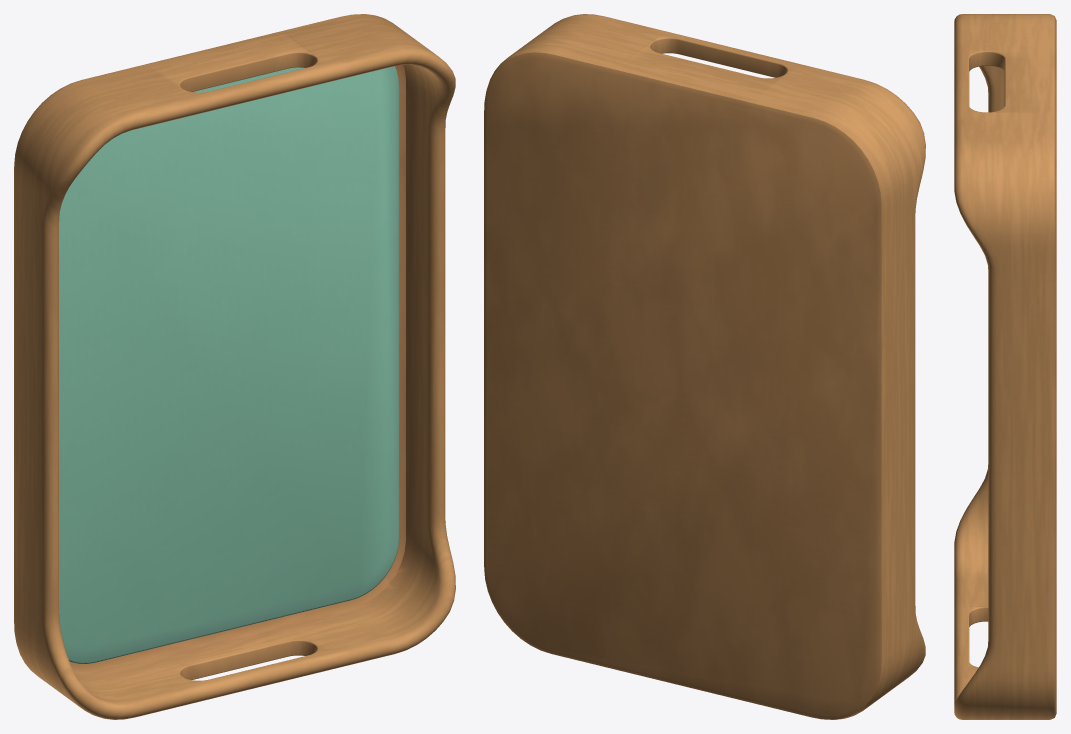
File: tray.obj
3 renders of one model, left to right at view 1: azimuth 30°, elevation 25°; view 2: azimuth 150°, elevation 25°; view 3: azimuth 270°, elevation 25°, orthographic. The views are drawn at different scales.
Visible parts, largest first — view 1: serving-tray_body; view 2: serving-tray_body; view 3: serving-tray_body.
Part boxes in pixels (x1,y1,x2,y2): serving-tray_body: (14,14,455,719); serving-tray_body: (484,14,925,719); serving-tray_body: (954,14,1056,719).
Size of the model in its own units: 0.32 by 0.46 by 0.075.
Materials: 1 (1 with a texture image).
